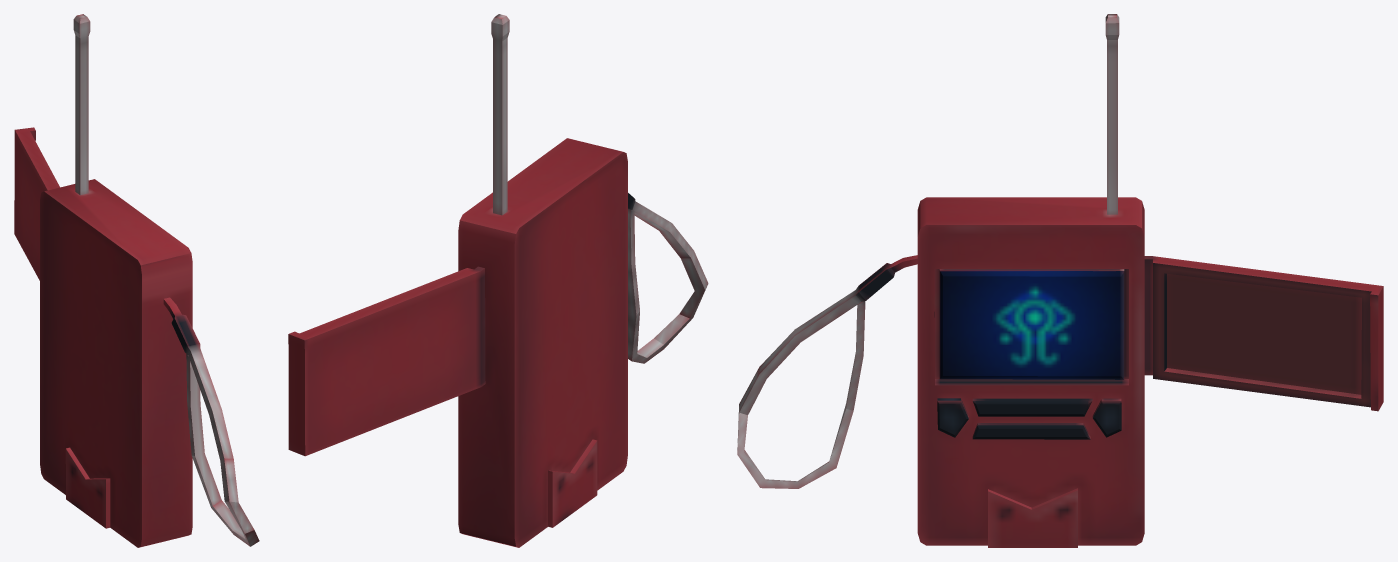
The model's file is handy_navi_-_serial_experiments_lain.glb.
3 views of the same model, side by side, from view 1: azimuth 30°, elevation 25°; view 2: azimuth 150°, elevation 25°; view 3: azimuth 270°, elevation 25° (orthographic). The views are drawn at different scales.
Visible parts, largest first — view 1: obj_navi; view 2: obj_navi; view 3: obj_navi.
Boxes of the visible parts, <box> form: obj_navi: <box>14,14,259,547</box>; obj_navi: <box>288,14,708,547</box>; obj_navi: <box>737,14,1383,547</box>.
Bounding box in the file's own units: 1.39 × 5.96 × 6.75.
Materials: 1 (1 with a texture image).
